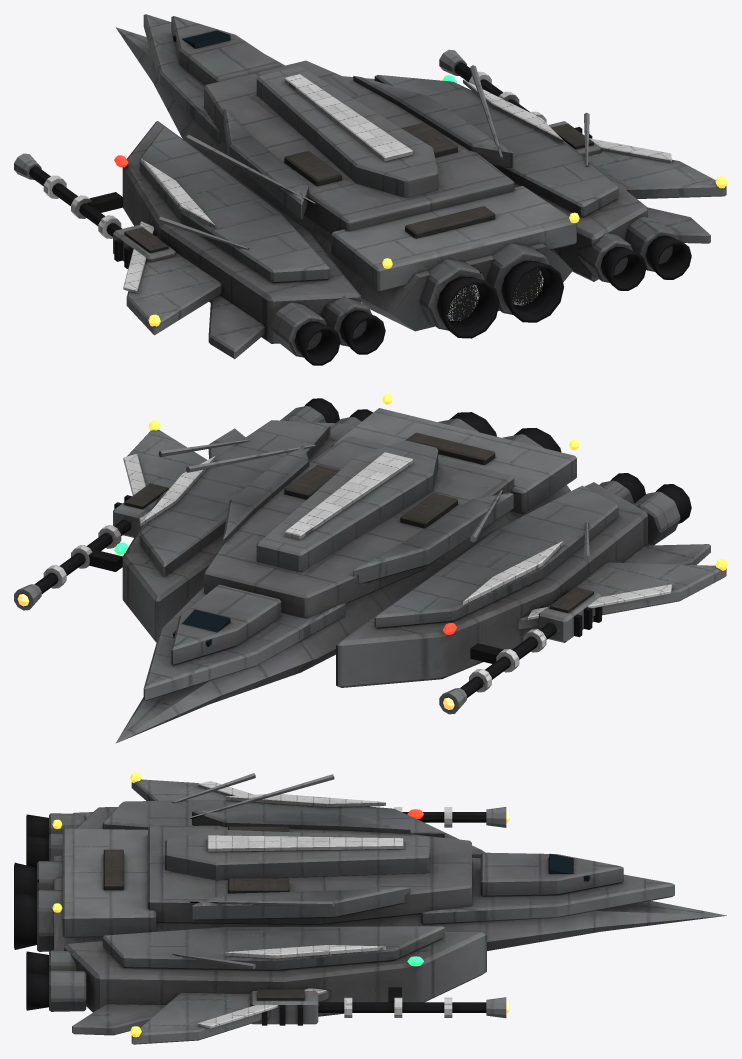
Rendered from ship.glb.
3 views of the same model, one above another, from view 1: azimuth 30°, elevation 25°; view 2: azimuth 150°, elevation 25°; view 3: azimuth 270°, elevation 25° (orthographic). The views are drawn at different scales.
Parts seen in each view (by area): view 1: Body, AccentTrim; view 2: Body, AccentTrim, Window; view 3: Body, AccentTrim, Window.
Part boxes in pixels (box(x1,y1,x2,y2)): Body: box(14, 14, 726, 365); AccentTrim: box(43, 71, 671, 293); Body: box(14, 398, 726, 743); AccentTrim: box(43, 452, 671, 692); Window: box(173, 609, 230, 646); Body: box(14, 773, 726, 1044); AccentTrim: box(198, 781, 452, 1028); Window: box(548, 853, 589, 881).
Bounding box in the file's own units: 3.59 × 0.6371 × 4.18.
8 materials, 2 textured.
